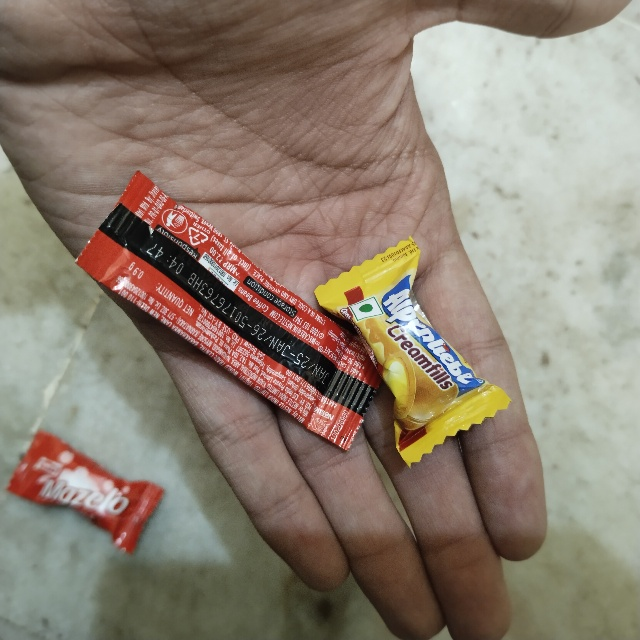Alpenlibe Creamfills: (311, 285, 429, 492)
Mazelo: (33, 424, 187, 488)
Nescafe Coffee: (70, 263, 186, 594)
